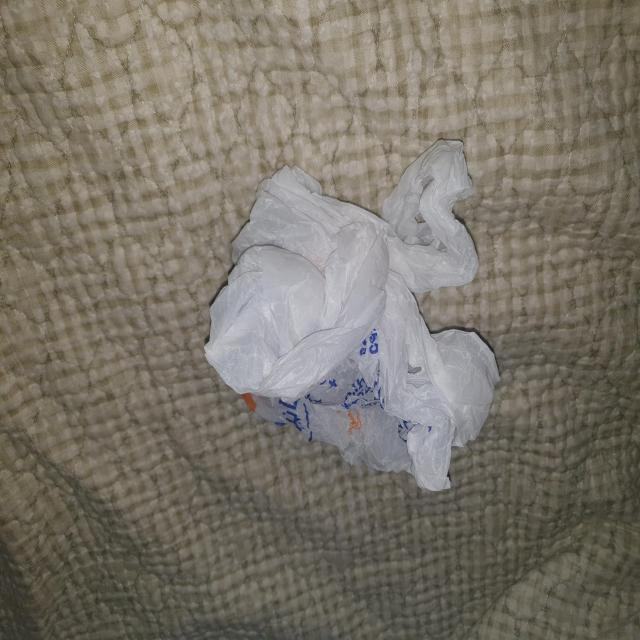plastic bag: (207, 136, 500, 491)
